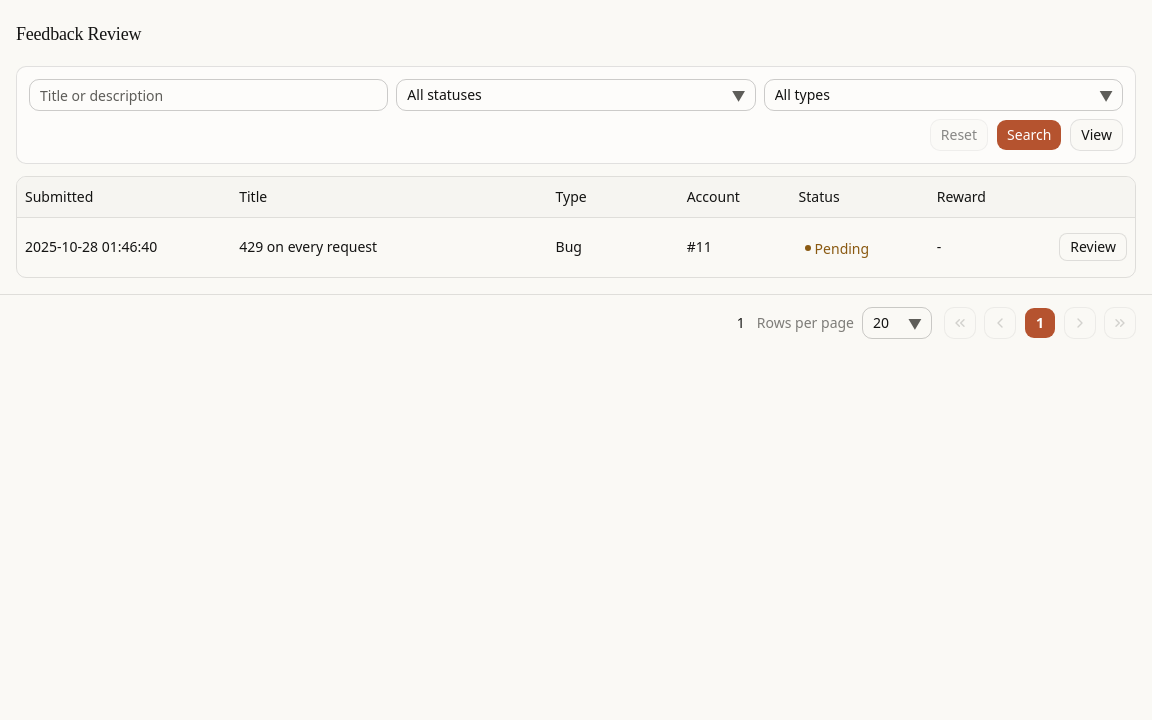
saving a review sends the status, reply and reward and reloads the list
Expected: the text "429 on every request" is shown, [239, 237, 377, 256]
Click the button "Review": (1093, 247) [1059, 233, 1127, 261]
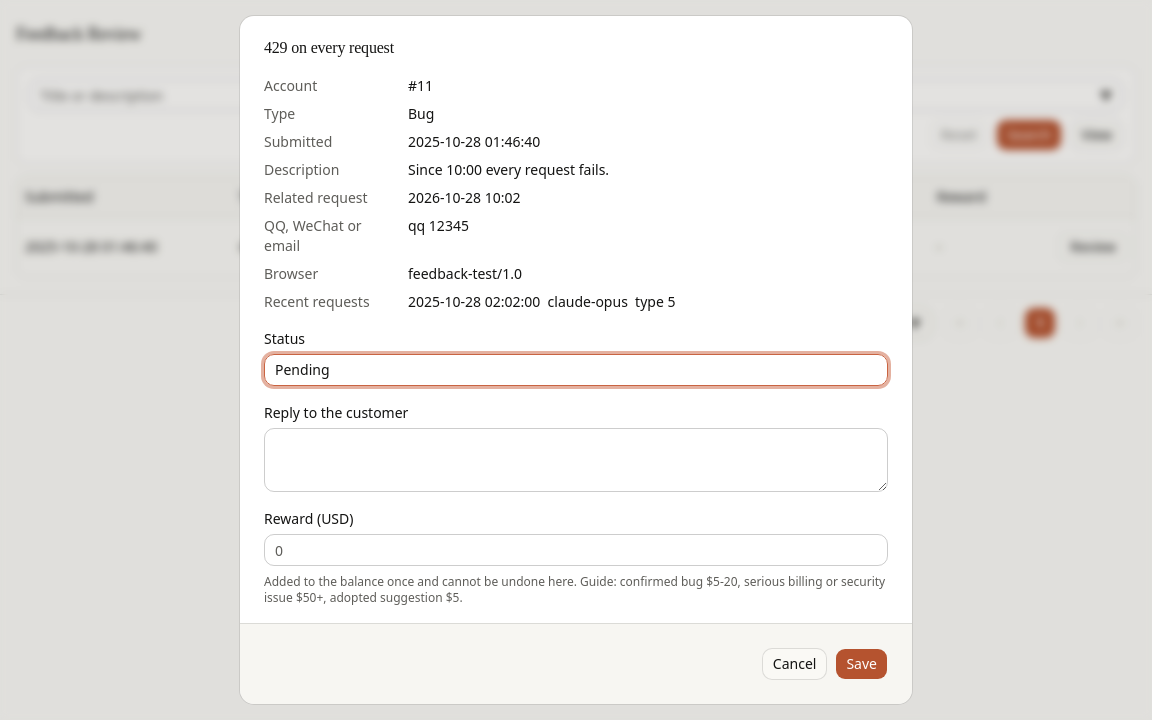
Now the text "feedback-test/1.0" is shown, box [408, 264, 522, 283]
Now the text "2025-10-28 02:02:00 claude-opus type 5" is shown, box [408, 292, 676, 311]
Select "Resolved" in the dropdown labelled "Status": (576, 370) [264, 354, 888, 386]
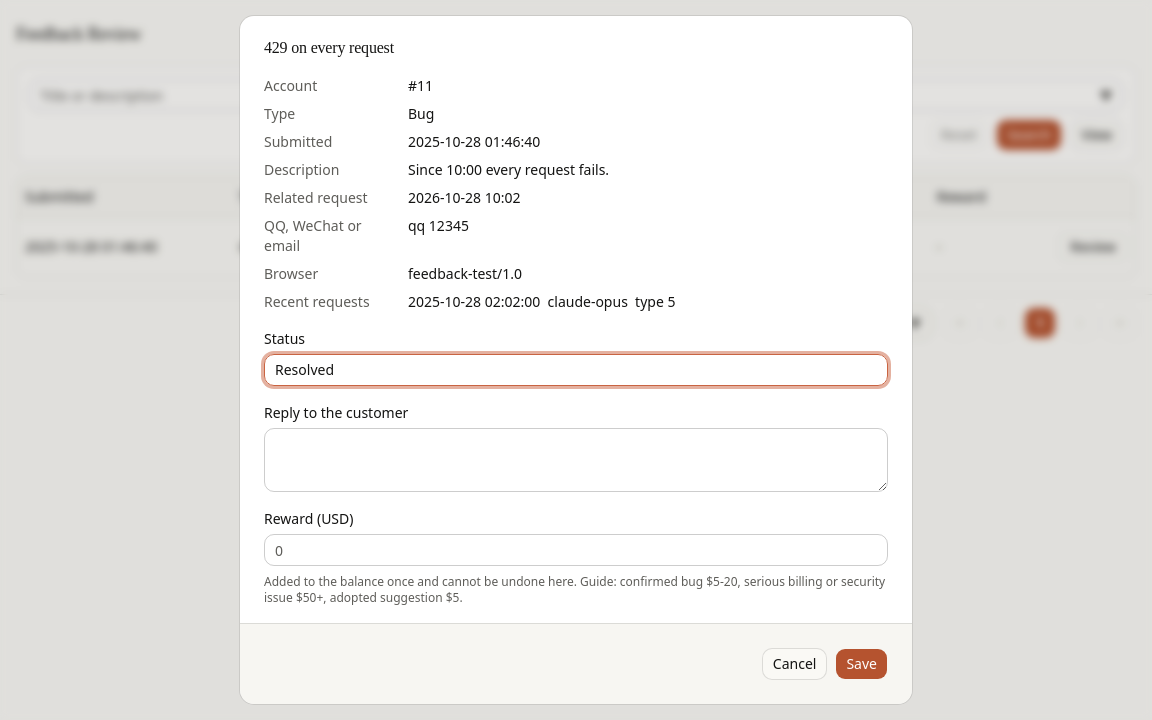
In the text box labelled "Reply to the customer": (576, 460) [264, 428, 888, 492], type "Fixed"
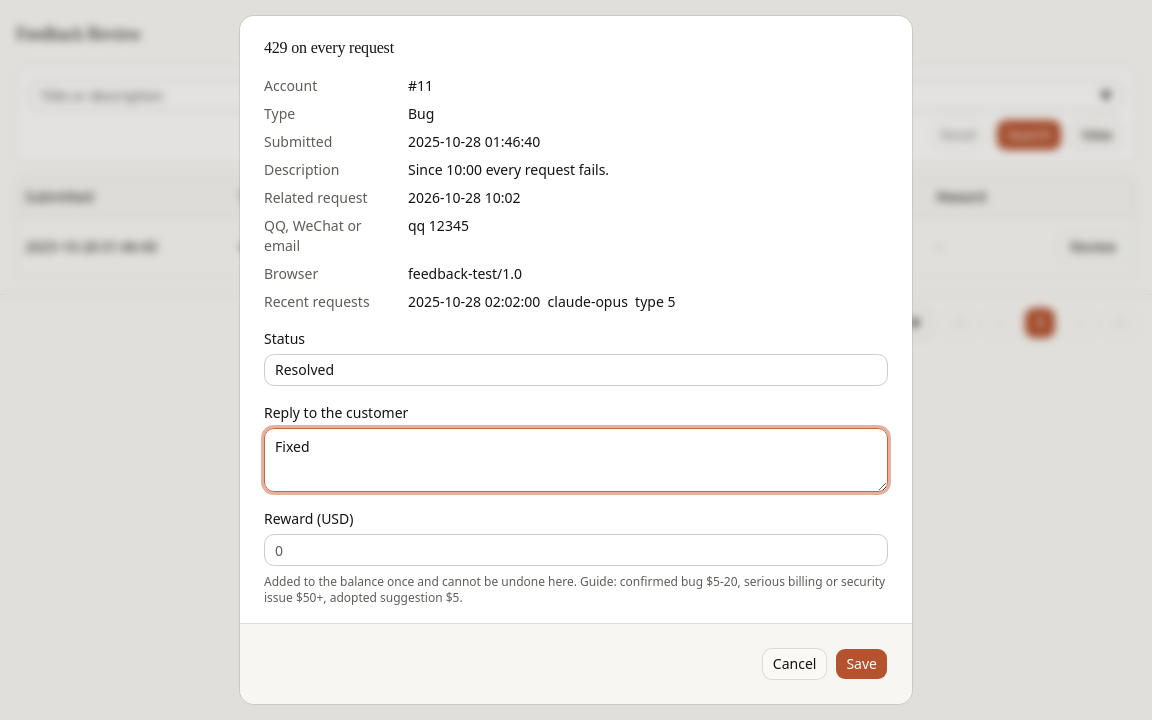
In the number field labelled "Reward (USD)": (576, 550) [264, 534, 888, 566], type "5"
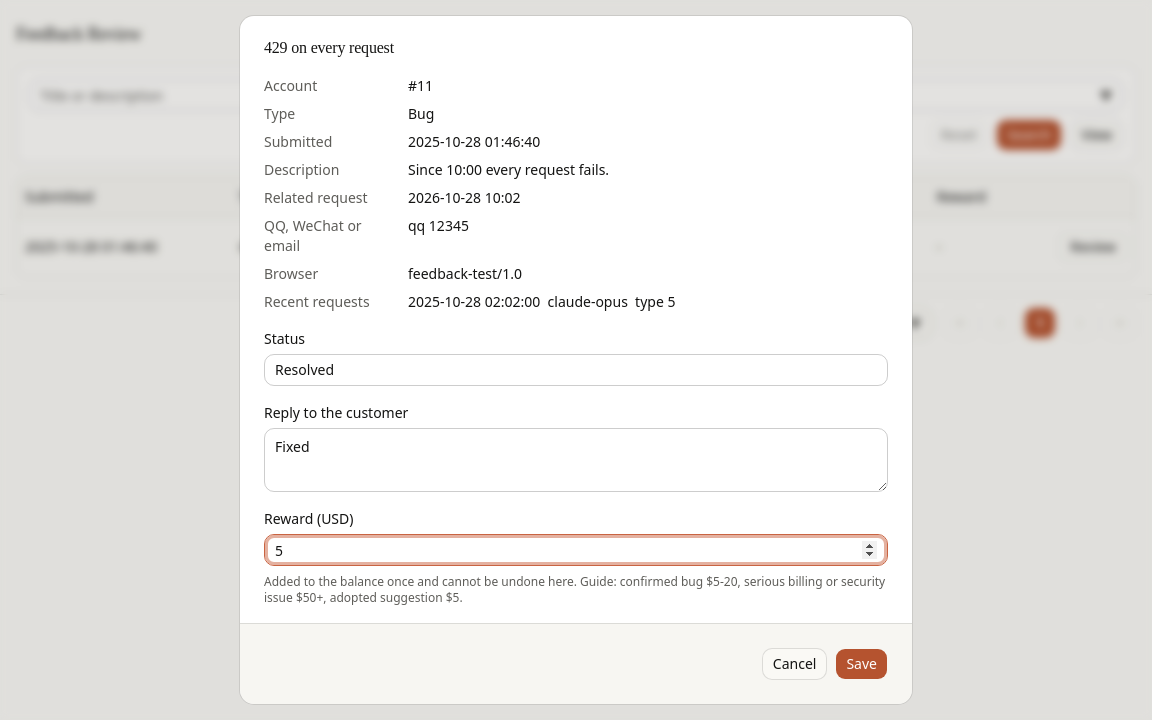
Click the button "Save": (862, 664) [835, 648, 888, 680]
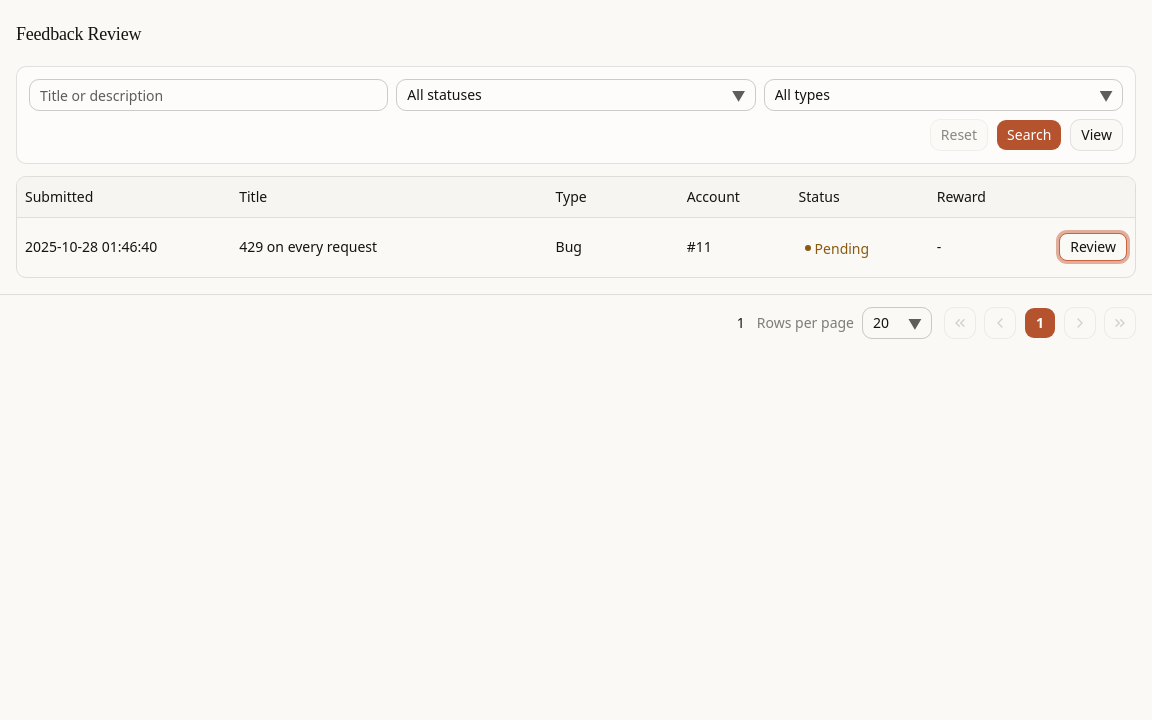
Now the dialog is gone
